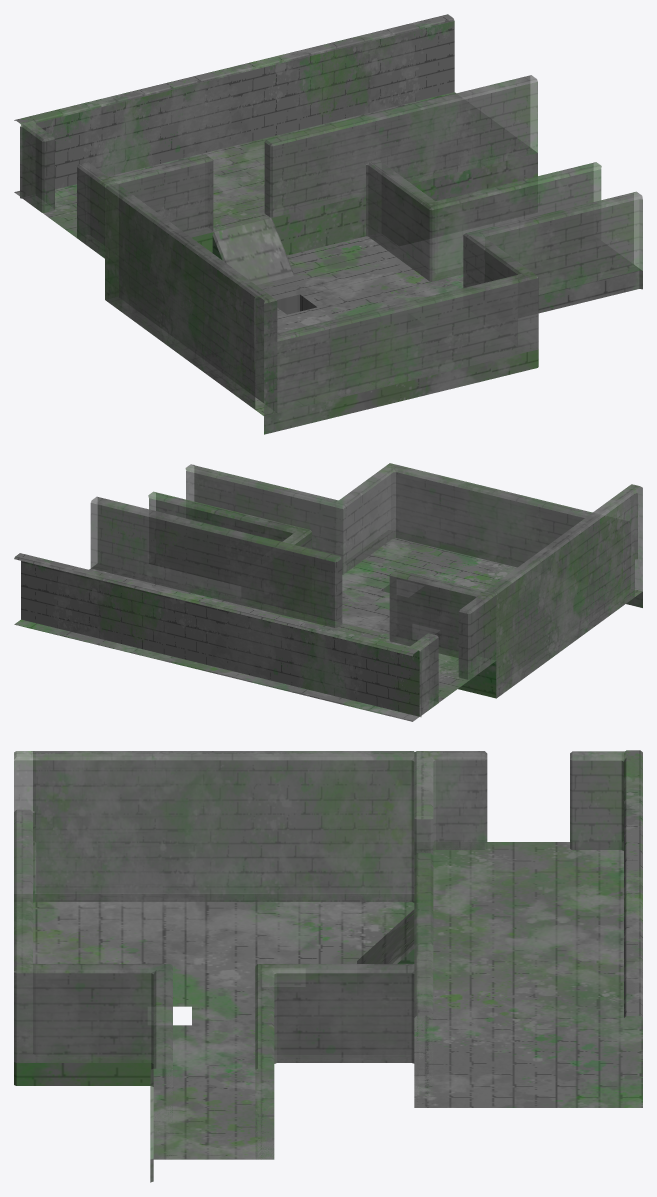
The model's file is lvl_1-cnk_2.obj.
3 views of the same model, one above another, from view 1: azimuth 30°, elevation 25°; view 2: azimuth 150°, elevation 25°; view 3: azimuth 270°, elevation 25° (orthographic). The views are drawn at different scales.
Visible parts, largest first — view 1: Cube.013, Cube.015, Cube.014, Cube.020, Cube.018, Cube.016, Cube.019, Cube.017; view 2: Cube.014, Cube.015, Cube.018, Cube.013, Cube.020, Cube.019, Cube.016, Cube.017; view 3: Cube.013, Cube.020, Cube.015, Cube.016, Cube.019, Cube.017, Cube.014, Cube.018.
Boxes of the visible parts, left/top/right/bottom form: Cube.013: left=14, top=92, right=642, bottom=434; Cube.015: left=277, top=191, right=642, bottom=412; Cube.014: left=14, top=14, right=454, bottom=196; Cube.020: left=105, top=183, right=277, bottom=416; Cube.018: left=264, top=75, right=537, bottom=217; Cube.016: left=366, top=160, right=601, bottom=281; Cube.019: left=77, top=154, right=213, bottom=258; Cube.017: left=20, top=121, right=54, bottom=212; Cube.014: left=14, top=553, right=419, bottom=716; Cube.015: left=185, top=463, right=592, bottom=574; Cube.018: left=90, top=496, right=342, bottom=627; Cube.013: left=14, top=530, right=642, bottom=721; Cube.020: left=484, top=484, right=642, bottom=698; Cube.019: left=389, top=569, right=496, bottom=679; Cube.016: left=148, top=491, right=311, bottom=548; Cube.017: left=408, top=633, right=438, bottom=716; Cube.013: left=14, top=842, right=642, bottom=1182; Cube.020: left=14, top=751, right=414, bottom=902; Cube.015: left=14, top=809, right=172, bottom=1159; Cube.016: left=255, top=964, right=414, bottom=1159; Cube.019: left=414, top=751, right=487, bottom=854; Cube.017: left=570, top=751, right=626, bottom=850; Cube.014: left=624, top=750, right=642, bottom=1017; Cube.018: left=414, top=853, right=433, bottom=1107.
Size of the model in its own units: 99.89 by 28.99 by 99.
3 materials, 3 textured.
